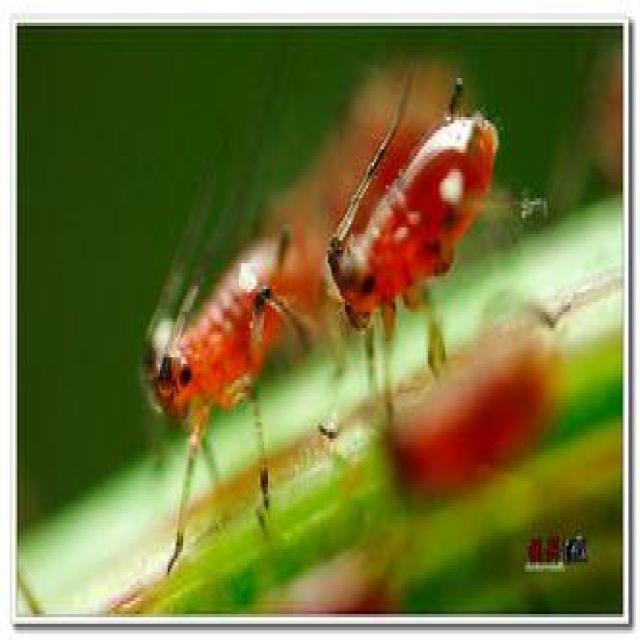Aphids: (321, 72, 581, 391), (134, 177, 329, 557)
